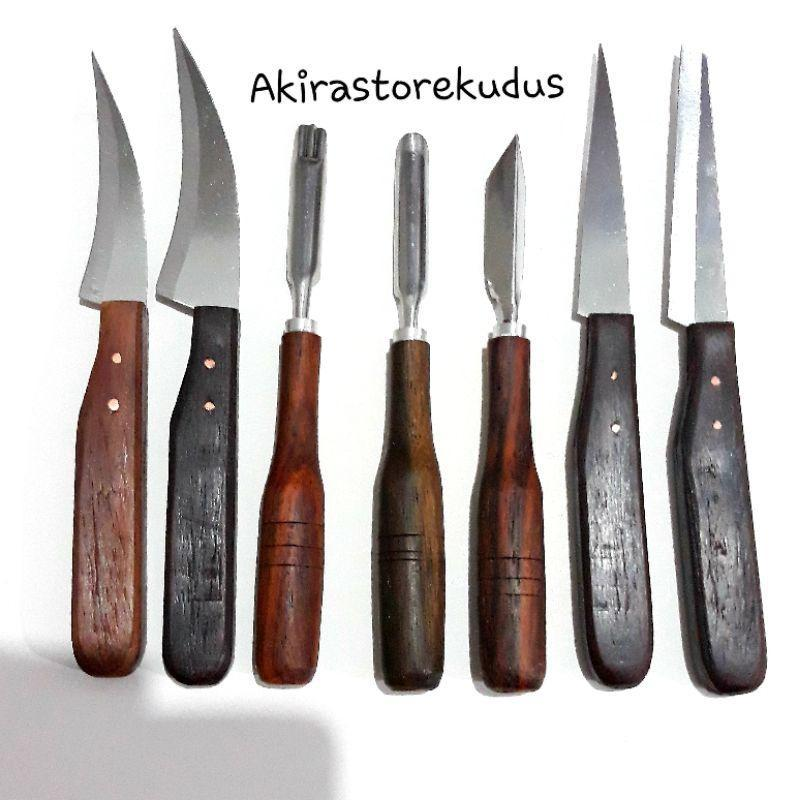faca: (662, 49, 766, 694), (156, 30, 239, 685), (573, 47, 652, 688), (71, 56, 147, 677), (475, 137, 545, 692)
